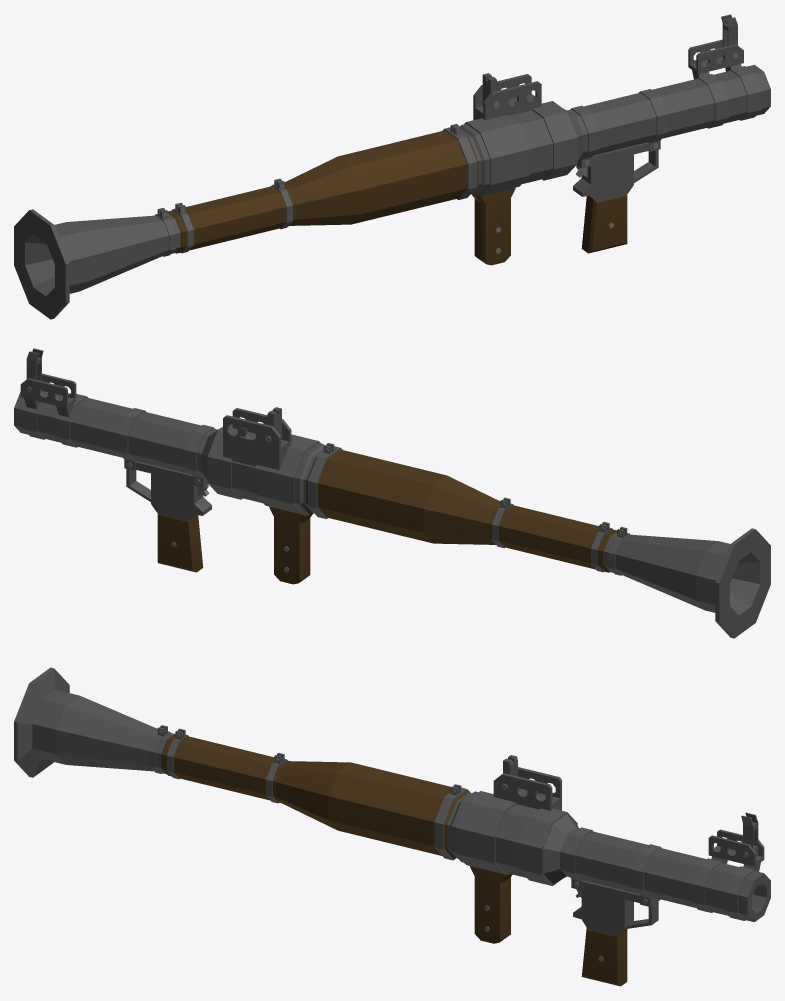
The model's file is HeavyWeapon2_04.fbx.
The picture shows the model from 3 angles, top to bottom: view 1: azimuth 30°, elevation 25°; view 2: azimuth 150°, elevation 25°; view 3: azimuth 330°, elevation 25°; orthographic projection.
Parts seen in each view (by area): view 1: HeavyWeapon2_04; view 2: HeavyWeapon2_04; view 3: HeavyWeapon2_04.
Boxes of the visible parts, x1,y1,x2,y2 form: HeavyWeapon2_04: (14,14,770,319); HeavyWeapon2_04: (14,348,770,638); HeavyWeapon2_04: (14,667,770,986).
Size of the model in its own units: 1.09 by 0.2731 by 0.1355.
